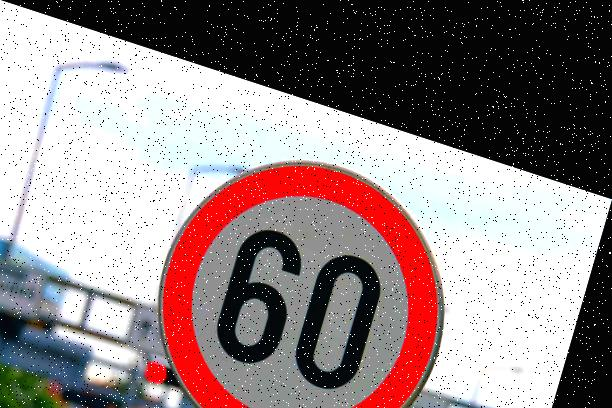Speed Limit -60-: (137, 104, 488, 408)
